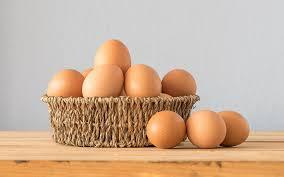egg: (146, 107, 186, 150), (187, 108, 228, 148), (82, 62, 124, 100), (123, 61, 165, 98), (220, 104, 252, 148), (92, 38, 132, 68), (46, 65, 83, 96), (162, 66, 198, 97)
